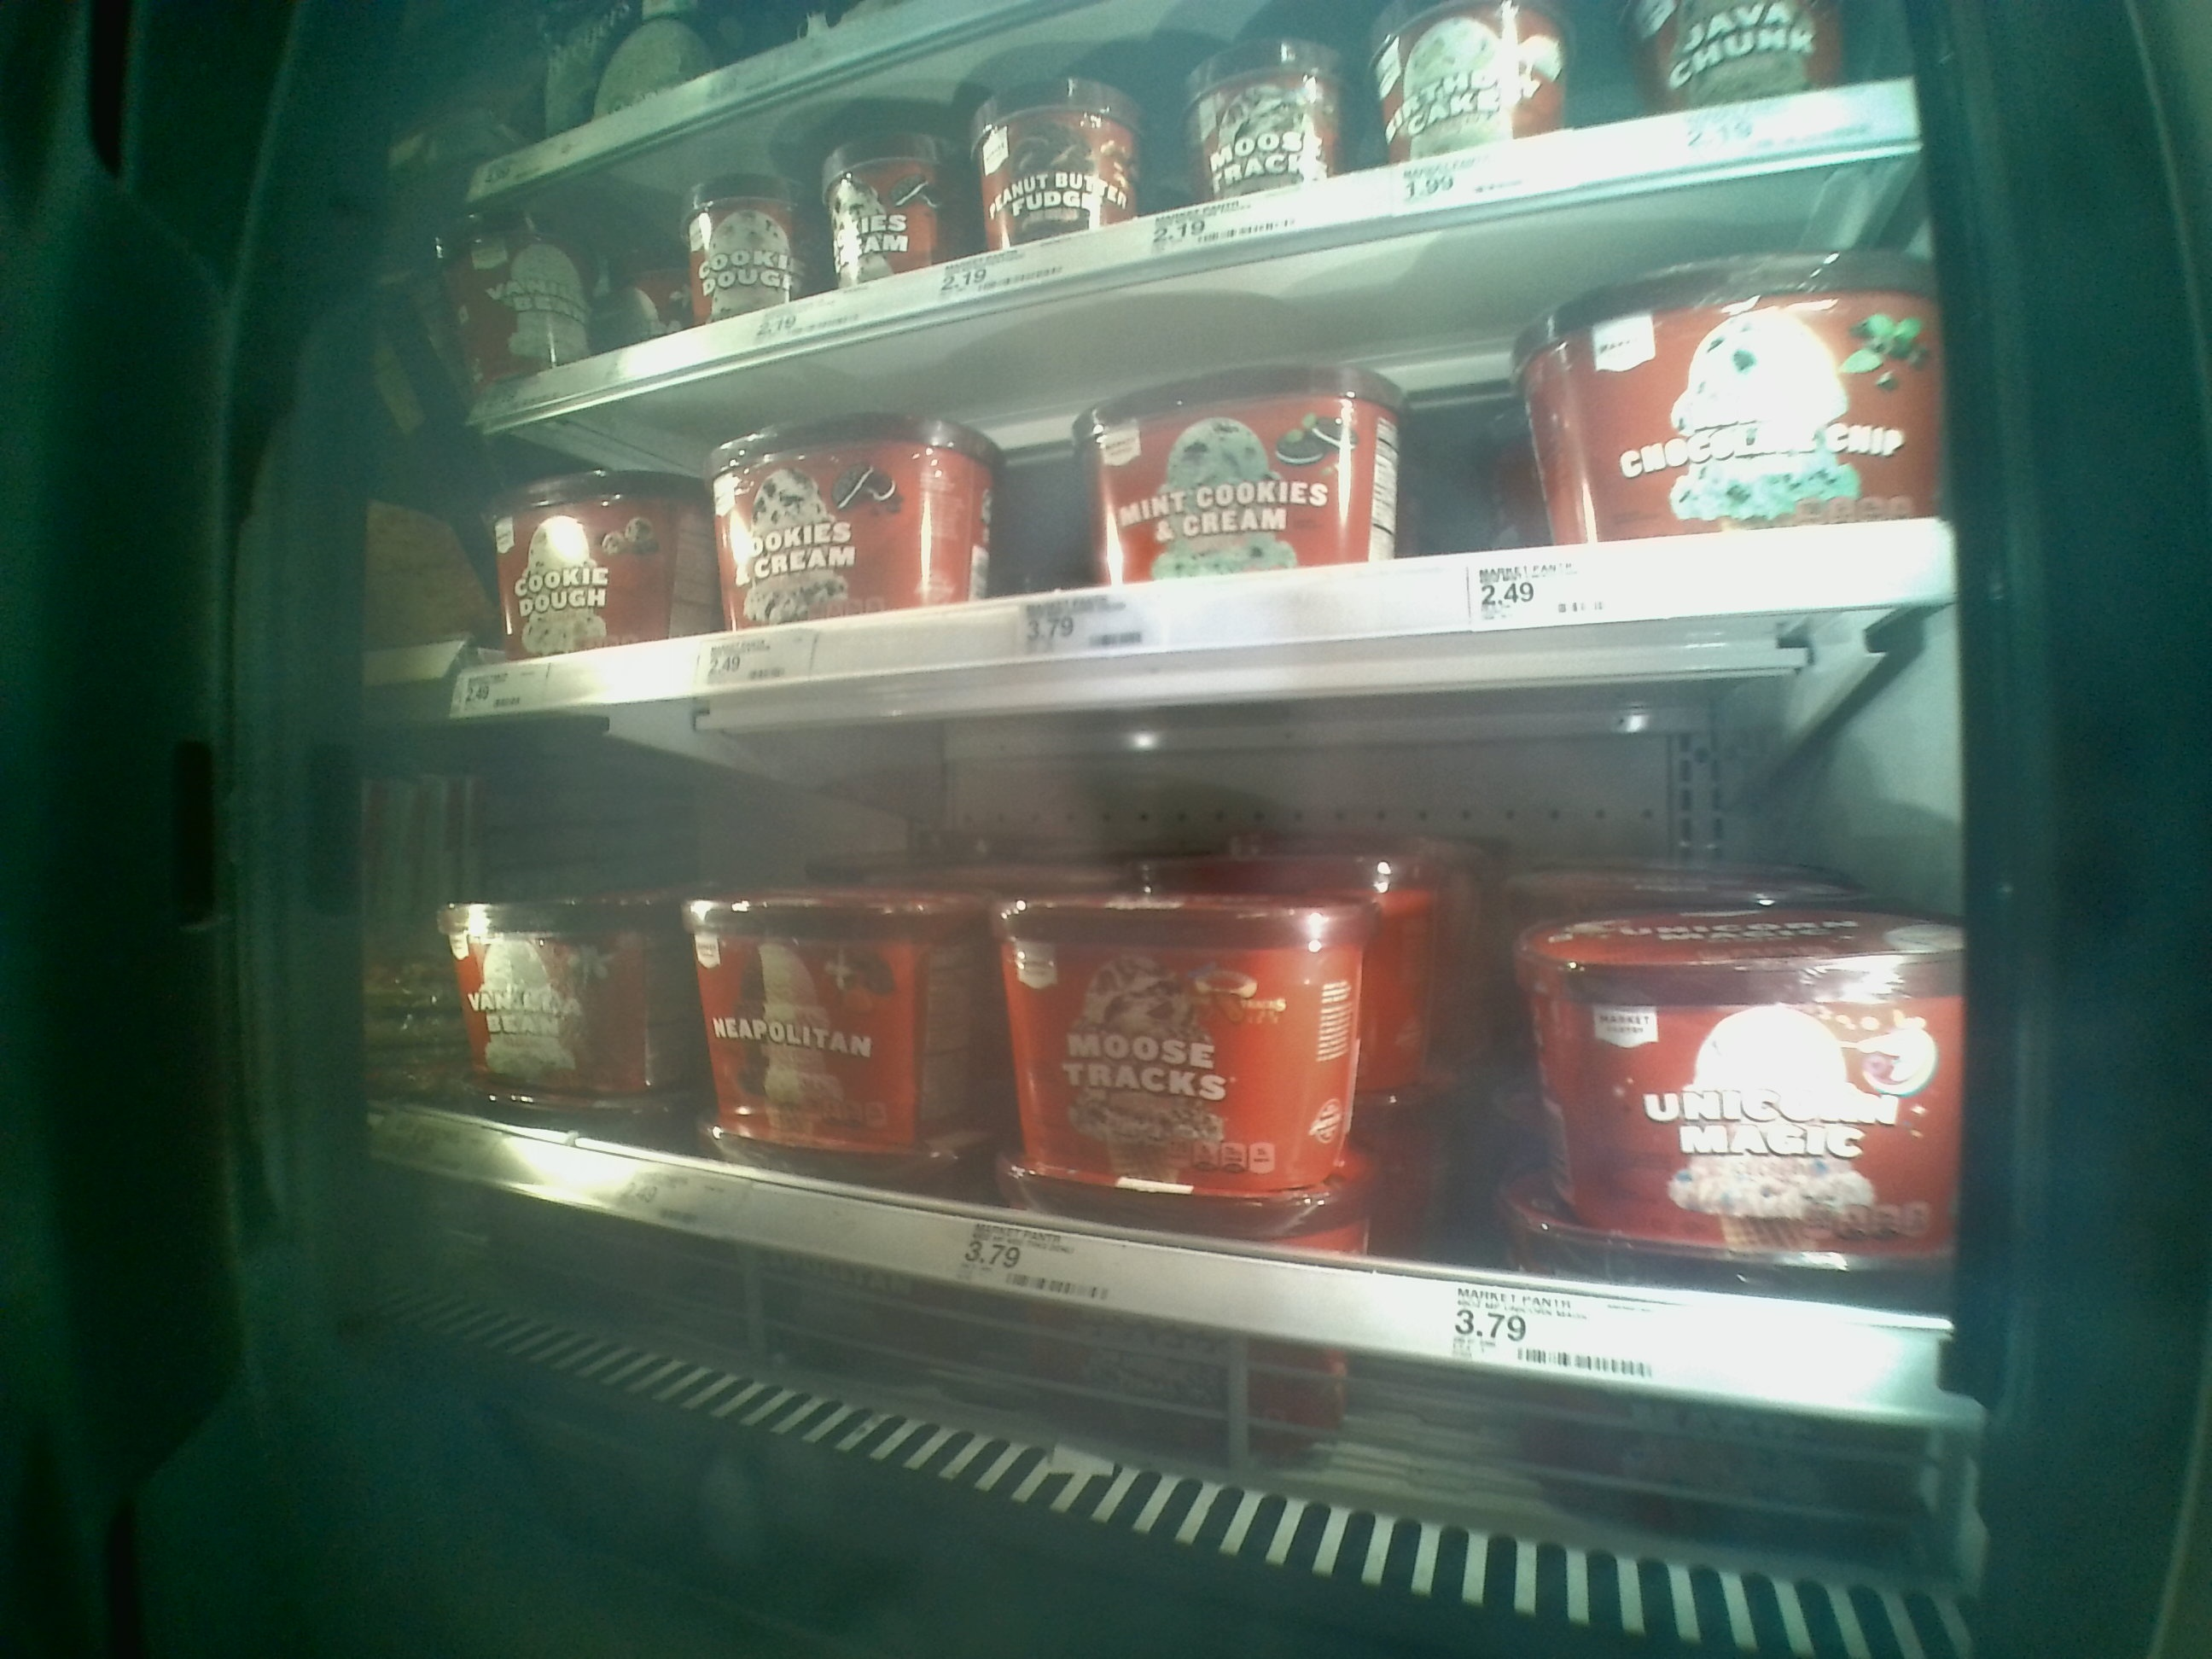shelf: (381, 603, 1952, 1535), (465, 129, 1935, 711)
